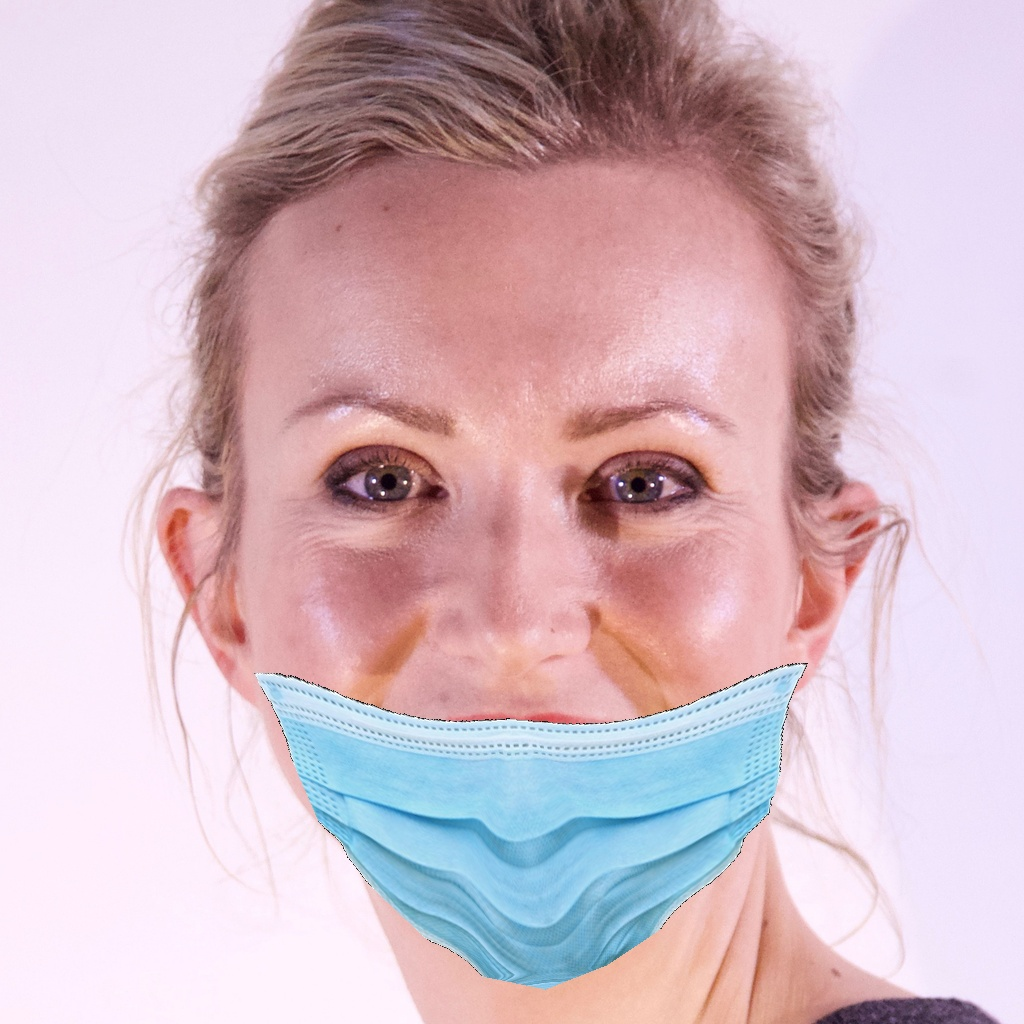mascarilla_mal_puesta: (199, 303, 884, 975)
